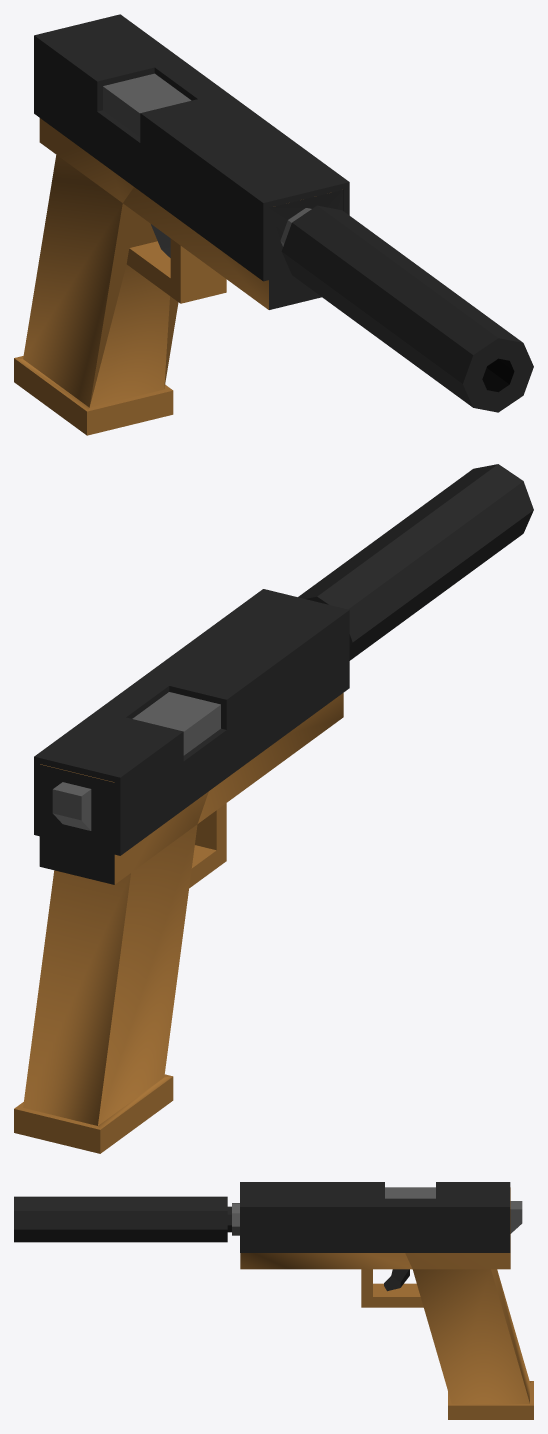
The model's file is GlockSilenced.fbx.
3 views of the same model, one above another, from view 1: azimuth 30°, elevation 25°; view 2: azimuth 150°, elevation 25°; view 3: azimuth 270°, elevation 25° (orthographic). The views are drawn at different scales.
Parts seen in each view (by area): view 1: GlockSilenced; view 2: GlockSilenced; view 3: GlockSilenced.
Part boxes in pixels (left/top/right/bottom): GlockSilenced: left=14, top=14, right=533, bottom=435; GlockSilenced: left=14, top=464, right=533, bottom=1153; GlockSilenced: left=14, top=1182, right=533, bottom=1419.
Bounding box in the file's own units: 13.5 × 54.03 × 120.
